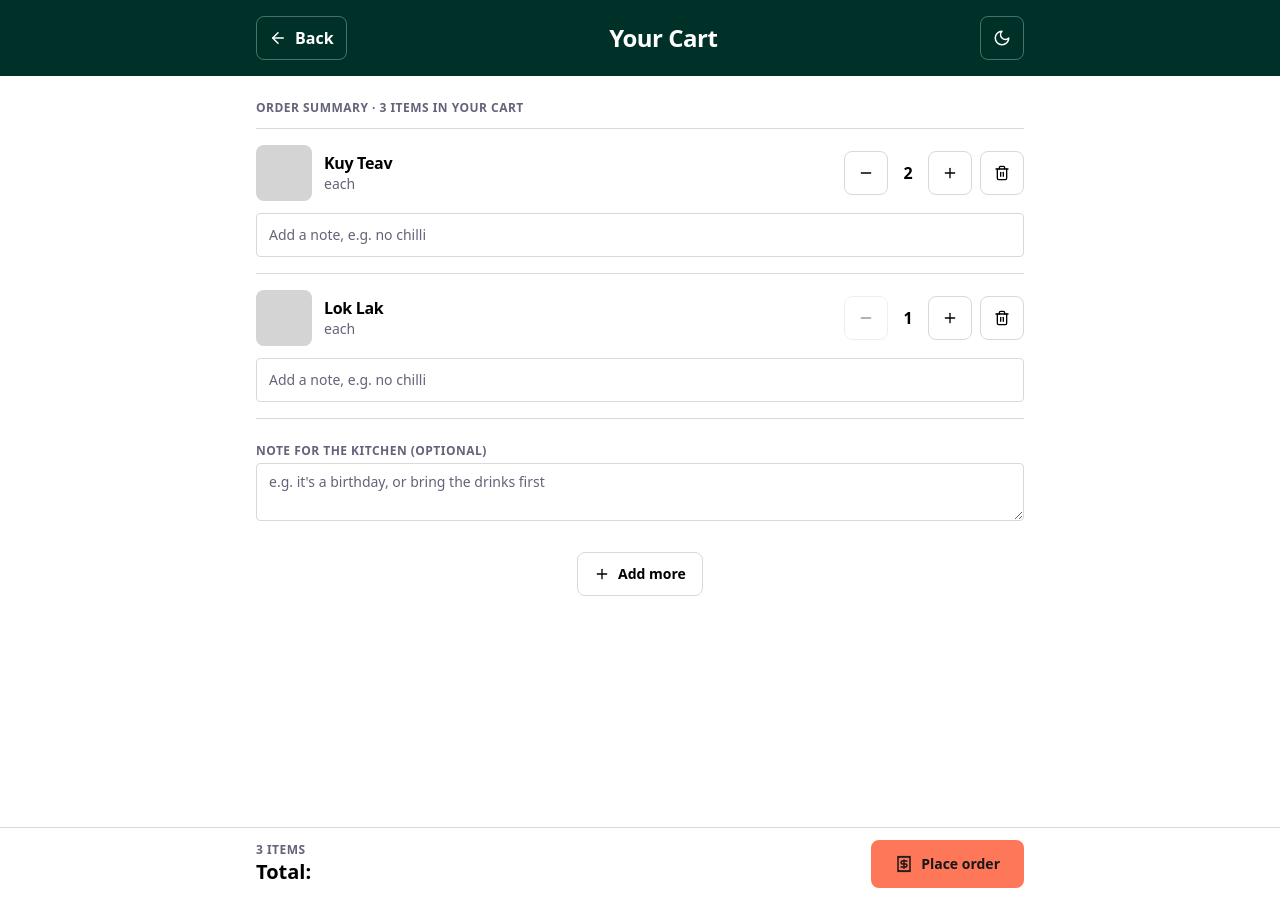
Test: order errors › a closed table: says so, keeps the cart, no retry
The width and height of the screenshot is (1280, 900).
Expected: the heading "Kuy Teav" is shown, [324,152,392,174]
What coordinates should you click on to do the following:
click the button "Place order"
I would click on:
 (948, 864)
Its box is [871,840,1024,888].
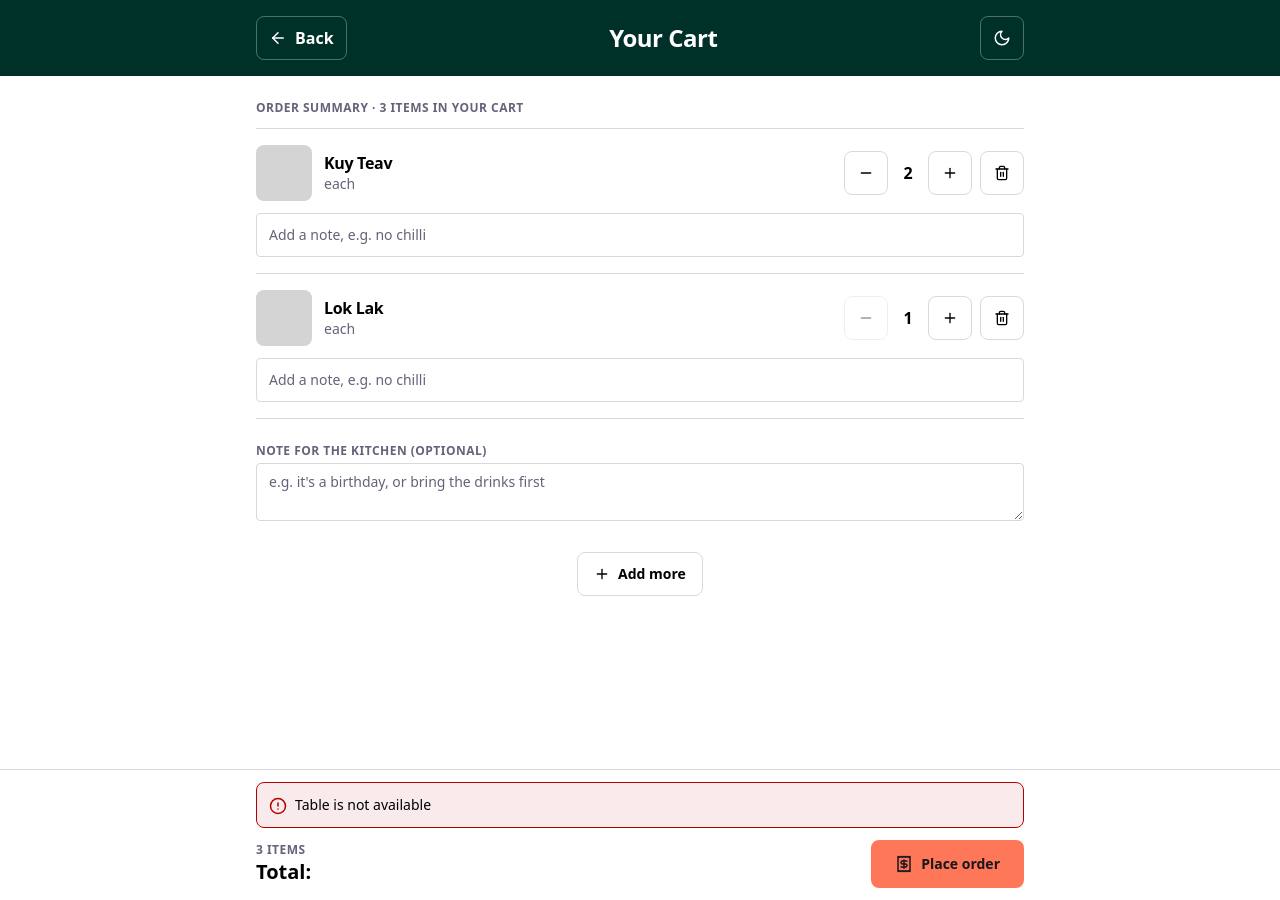
Result: the message reads "Table is not available" at [295,795,431,814]
